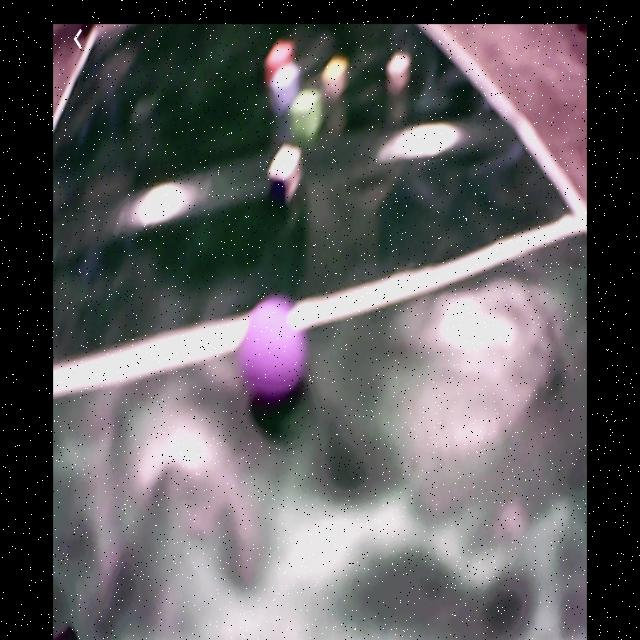ball: (242, 298, 307, 398)
